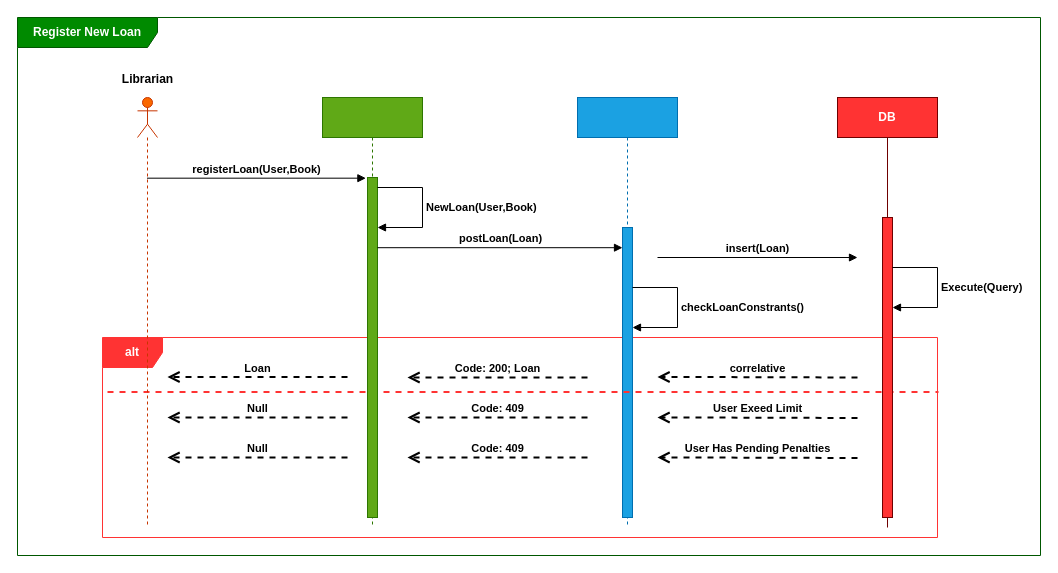
Image size: 1058x573. Some labels were removed from this diagram. The box of each missing label's shape, as (x1, y1, x2, y2) in pixels:
library:Library: (322, 96, 422, 528)
RestApi: (576, 96, 678, 528)
